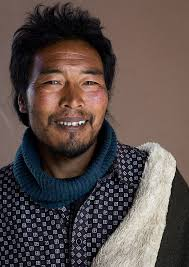person: (10, 6, 115, 156)
